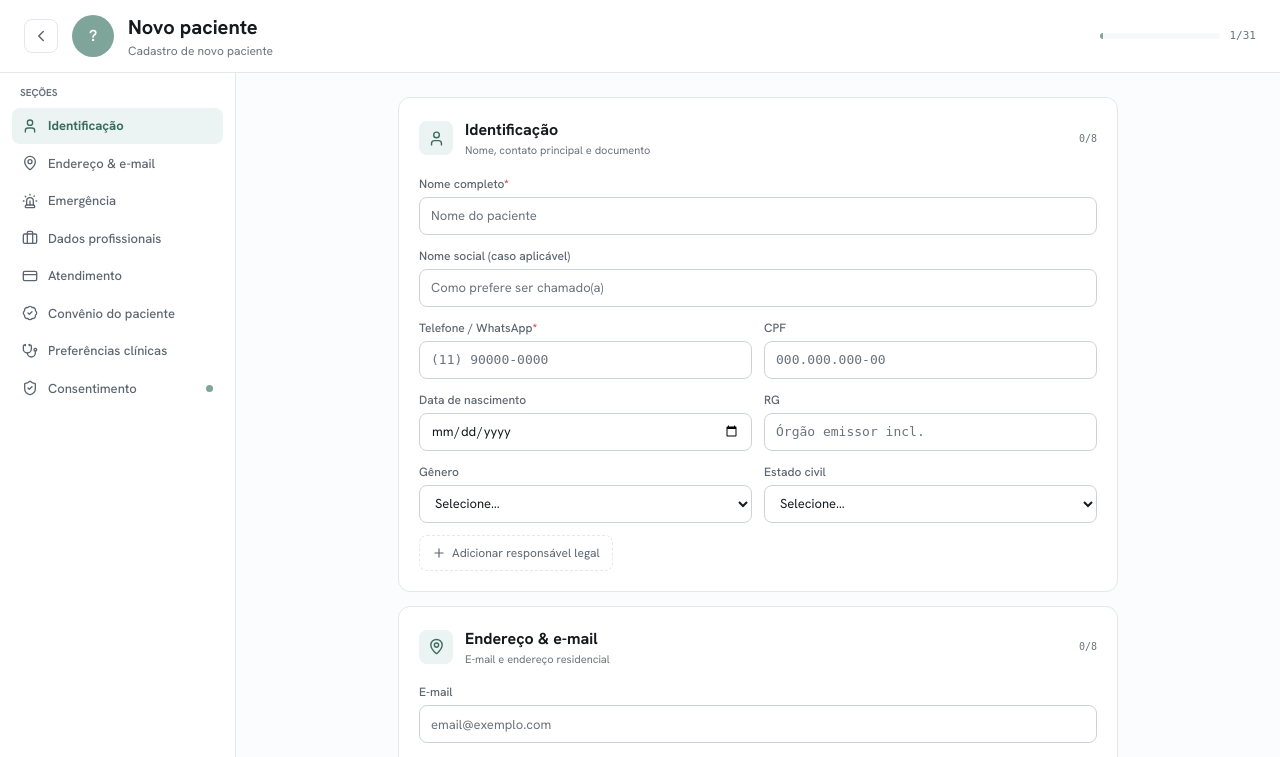
Scenario: PatientForm — novo › avisa duplicado por nome + data de nascimento
Type "Mariana Alves" into the field with placeholder "Nome do paciente" at (758, 216), box [419,196,1097,234]
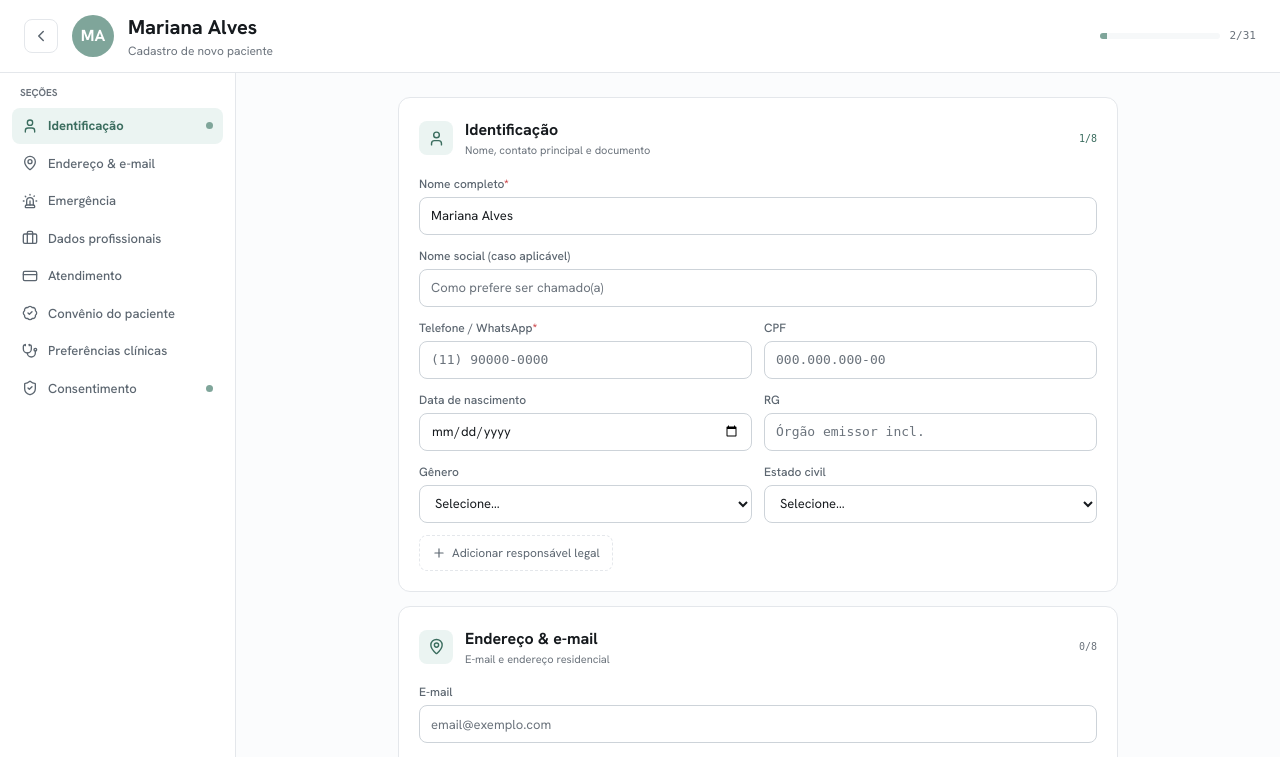
Type "1990-05-20" into the date field labelled "Data de nascimento" at (586, 432), box [419,412,752,450]
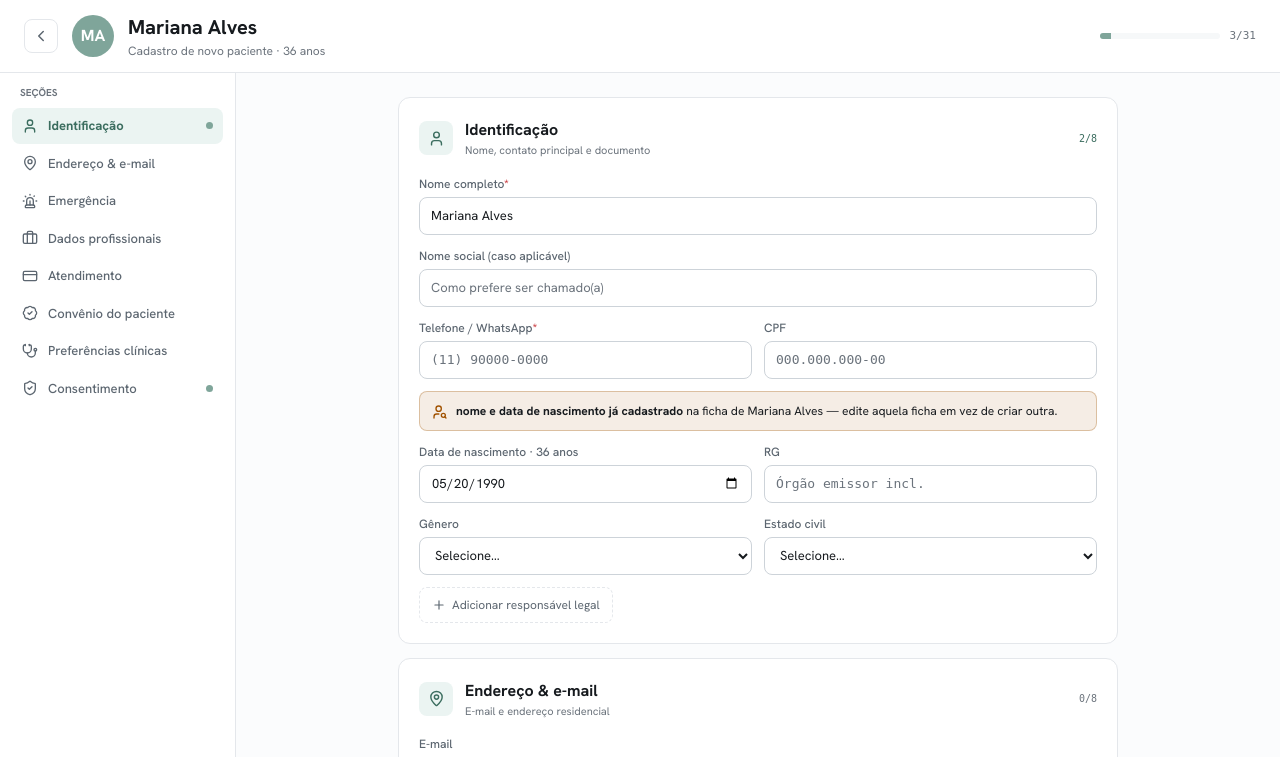
Check: the text "Mariana Alves" is shown, box [128,14,257,40]
Check: the text "nome e data de nascimento já cadastrado" is shown, box [456,402,683,418]
